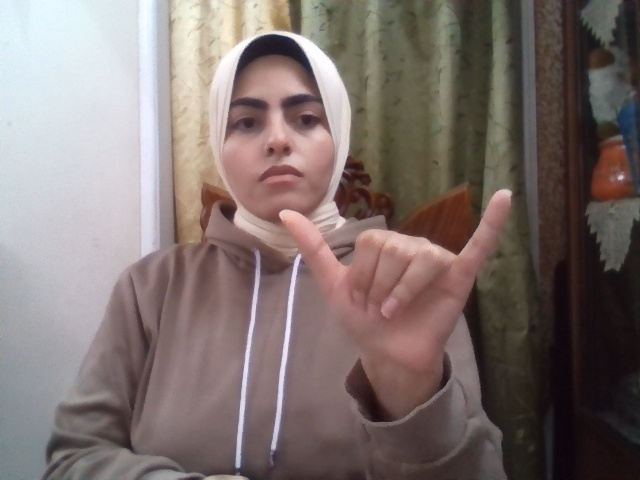Y: (278, 189, 512, 381)
